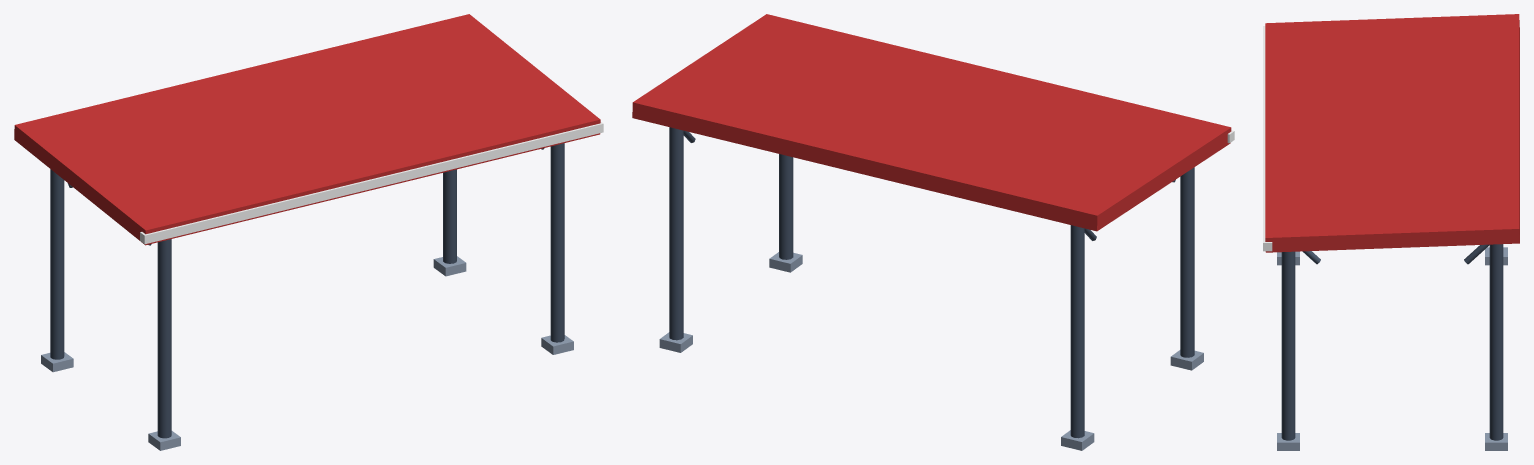
The model's file is station_canopy.glb.
3 views of the same model, side by side, from view 1: azimuth 30°, elevation 25°; view 2: azimuth 150°, elevation 25°; view 3: azimuth 270°, elevation 25° (orthographic). The views are drawn at different scales.
Parts seen in each view (by area): view 1: station_canopy; view 2: station_canopy; view 3: station_canopy.
Part boxes in pixels (box(x1,y1,x2,y2)): station_canopy: box(14, 14, 603, 450); station_canopy: box(632, 14, 1234, 450); station_canopy: box(1263, 14, 1519, 450).
Size of the model in its own units: 4.44 by 2.21 by 2.22.
